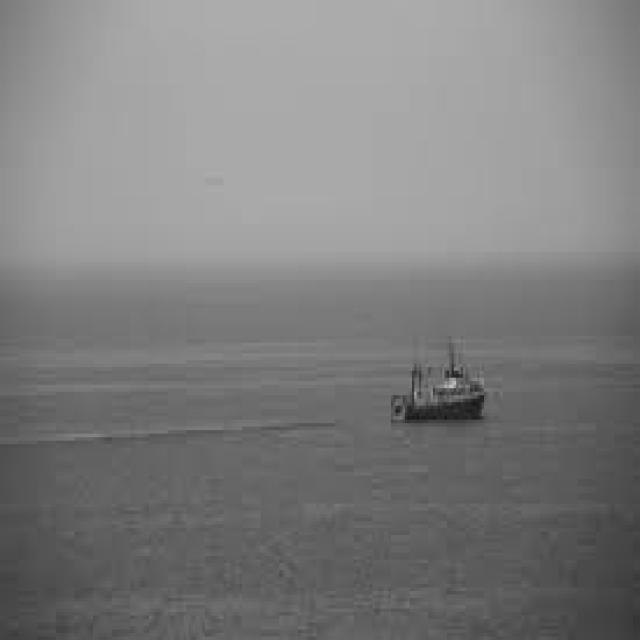fishing boat: (378, 328, 492, 425)
